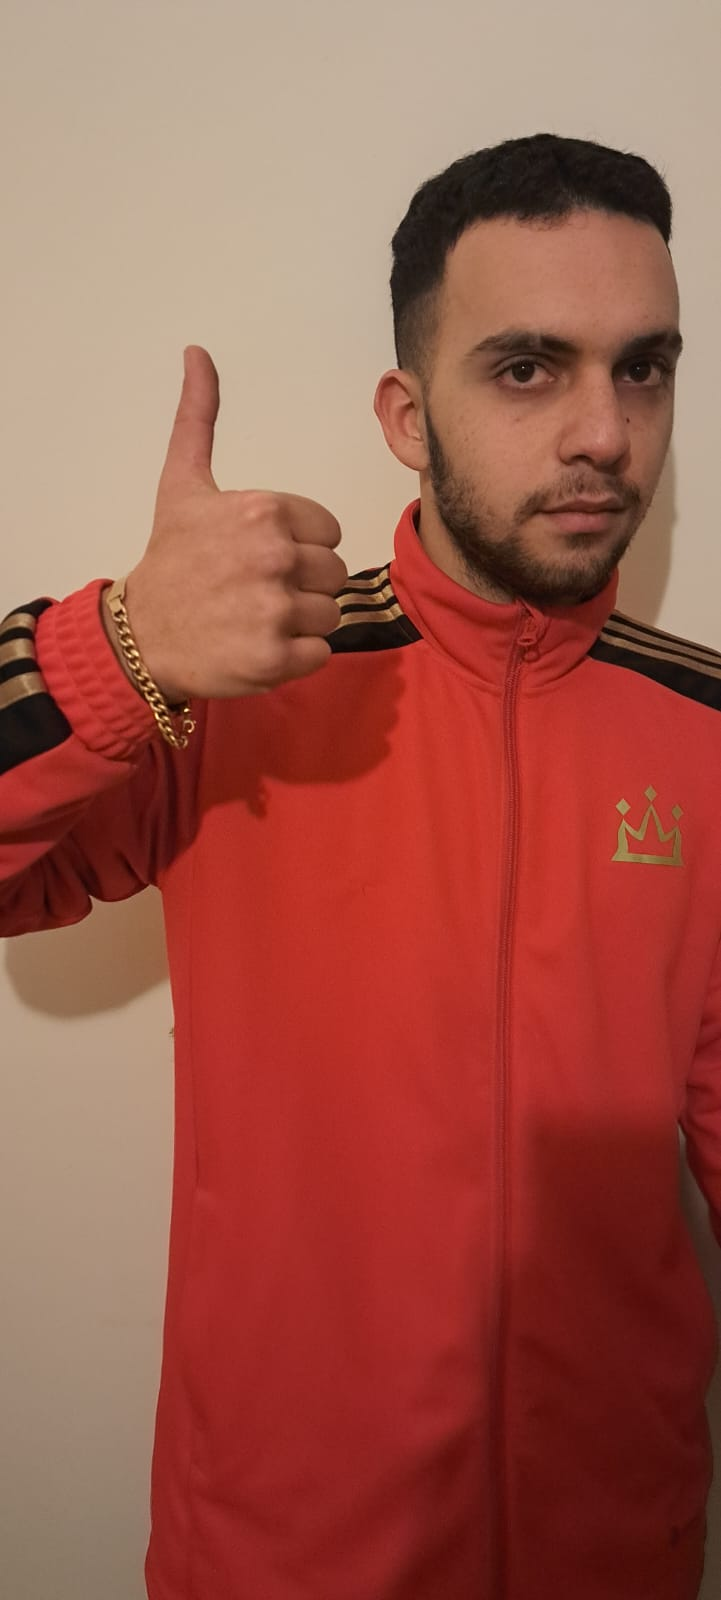okay: (124, 340, 350, 698)
